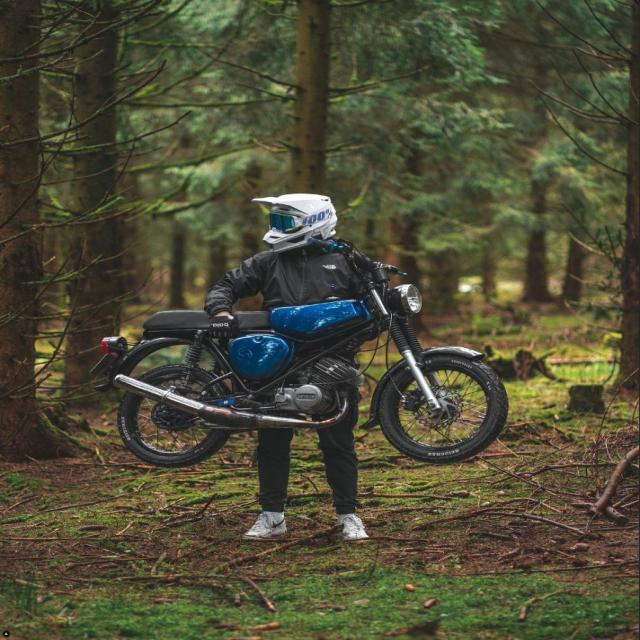illegal_helmet: (245, 188, 342, 257)
